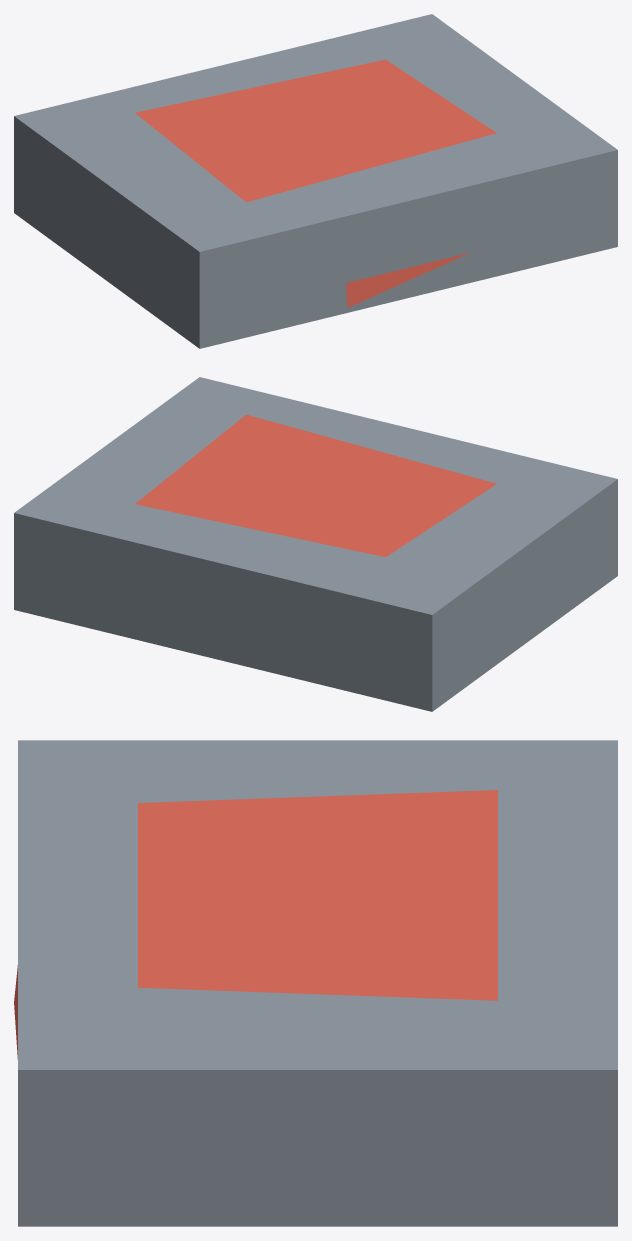
File: SU_KrechetInterceptor_LOD1.glb
3 renders of one model, top to bottom at view 1: azimuth 30°, elevation 25°; view 2: azimuth 150°, elevation 25°; view 3: azimuth 270°, elevation 25°, orthographic. The views are drawn at different scales.
Parts seen in each view (by area): view 1: EntranceGate; view 2: EntranceGate; view 3: EntranceGate.
Boxes of the visible parts, x1,y1,x2,y2 form: EntranceGate: (14,14,617,348); EntranceGate: (14,377,617,711); EntranceGate: (14,740,617,1226).
Bounding box in the file's own units: 650 × 159 × 503.
